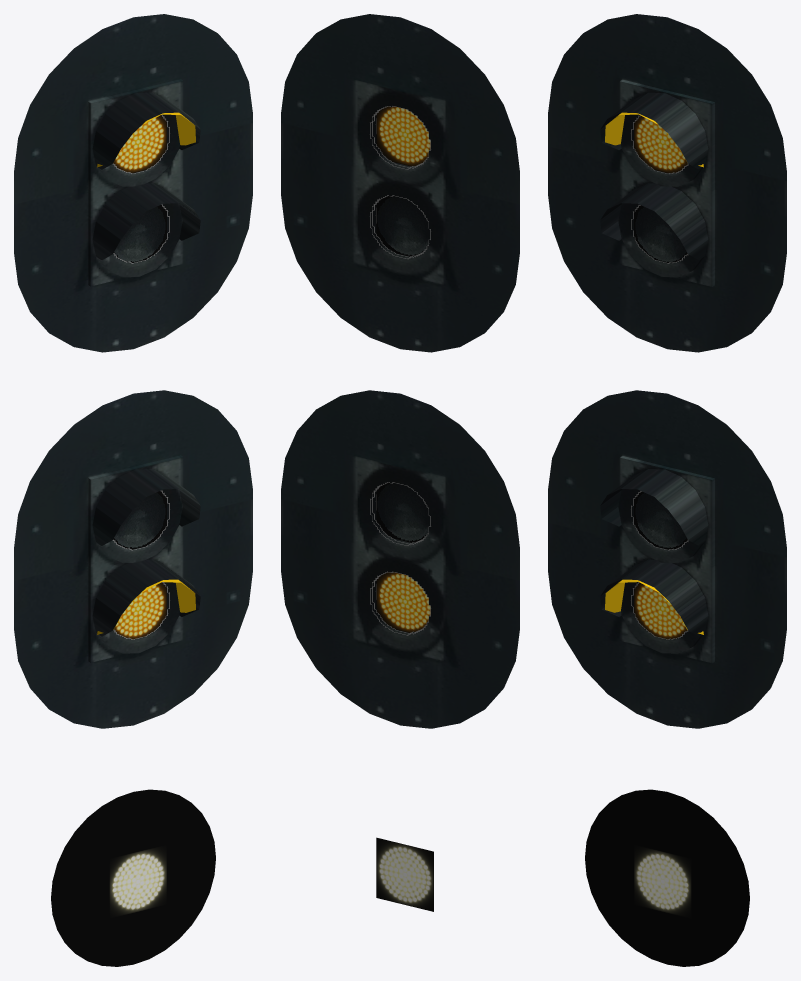
File: 进站信号机测试.obj
The picture shows the model from 3 angles, left to right: view 1: azimuth 30°, elevation 25°; view 2: azimuth 150°, elevation 25°; view 3: azimuth 330°, elevation 25°; orthographic projection.
Parts seen in each view (by area): view 1: upper, lower, call-on, callon-white-light, light_3, light_1, light_2, light_4, hood_2, hood_1; view 2: lower, upper, callon-white-light, light_2, light_4, light_1, light_3; view 3: upper, lower, call-on, callon-white-light, light_3, light_1, light_2, light_4, hood_2, hood_1.
Boxes of the visible parts, x1,y1,x2,y2 form: upper: [14, 14, 252, 352]; lower: [14, 390, 252, 728]; call-on: [51, 789, 215, 966]; callon-white-light: [109, 844, 166, 918]; light_3: [113, 491, 166, 549]; light_1: [113, 115, 166, 173]; light_2: [113, 204, 166, 262]; light_4: [114, 582, 166, 639]; hood_2: [97, 579, 195, 634]; hood_1: [97, 112, 195, 167]; lower: [281, 390, 519, 728]; upper: [281, 14, 519, 352]; callon-white-light: [376, 837, 433, 911]; light_2: [376, 196, 430, 256]; light_4: [376, 572, 430, 632]; light_1: [376, 106, 430, 166]; light_3: [376, 482, 430, 542]; upper: [548, 14, 786, 352]; lower: [548, 390, 786, 728]; call-on: [585, 789, 749, 966]; callon-white-light: [634, 844, 691, 918]; light_3: [634, 491, 687, 549]; light_1: [634, 115, 687, 173]; light_2: [634, 205, 687, 262]; light_4: [634, 582, 687, 639]; hood_2: [605, 579, 703, 634]; hood_1: [605, 112, 703, 167].
Size of the model in its own units: 0.58 by 2.2 by 0.125.
Materials: 9 (9 with a texture image).
